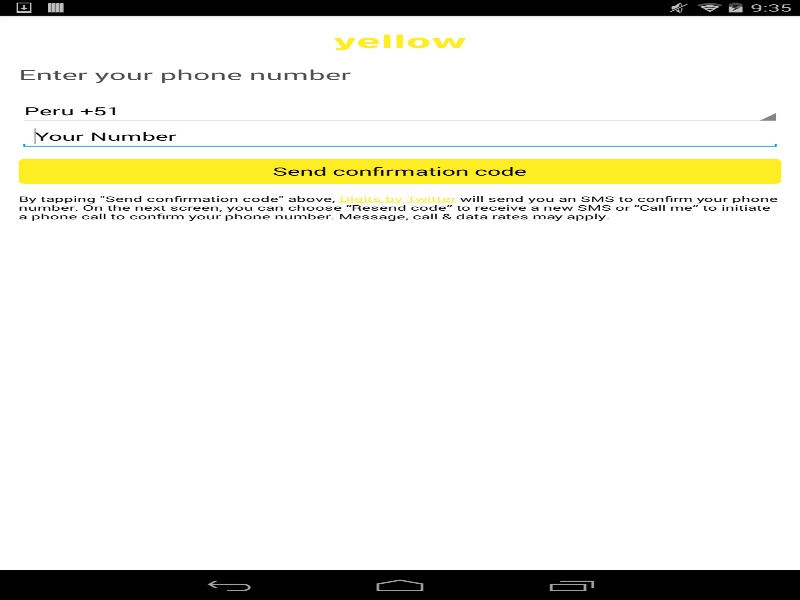Input: (18, 124, 781, 148)
